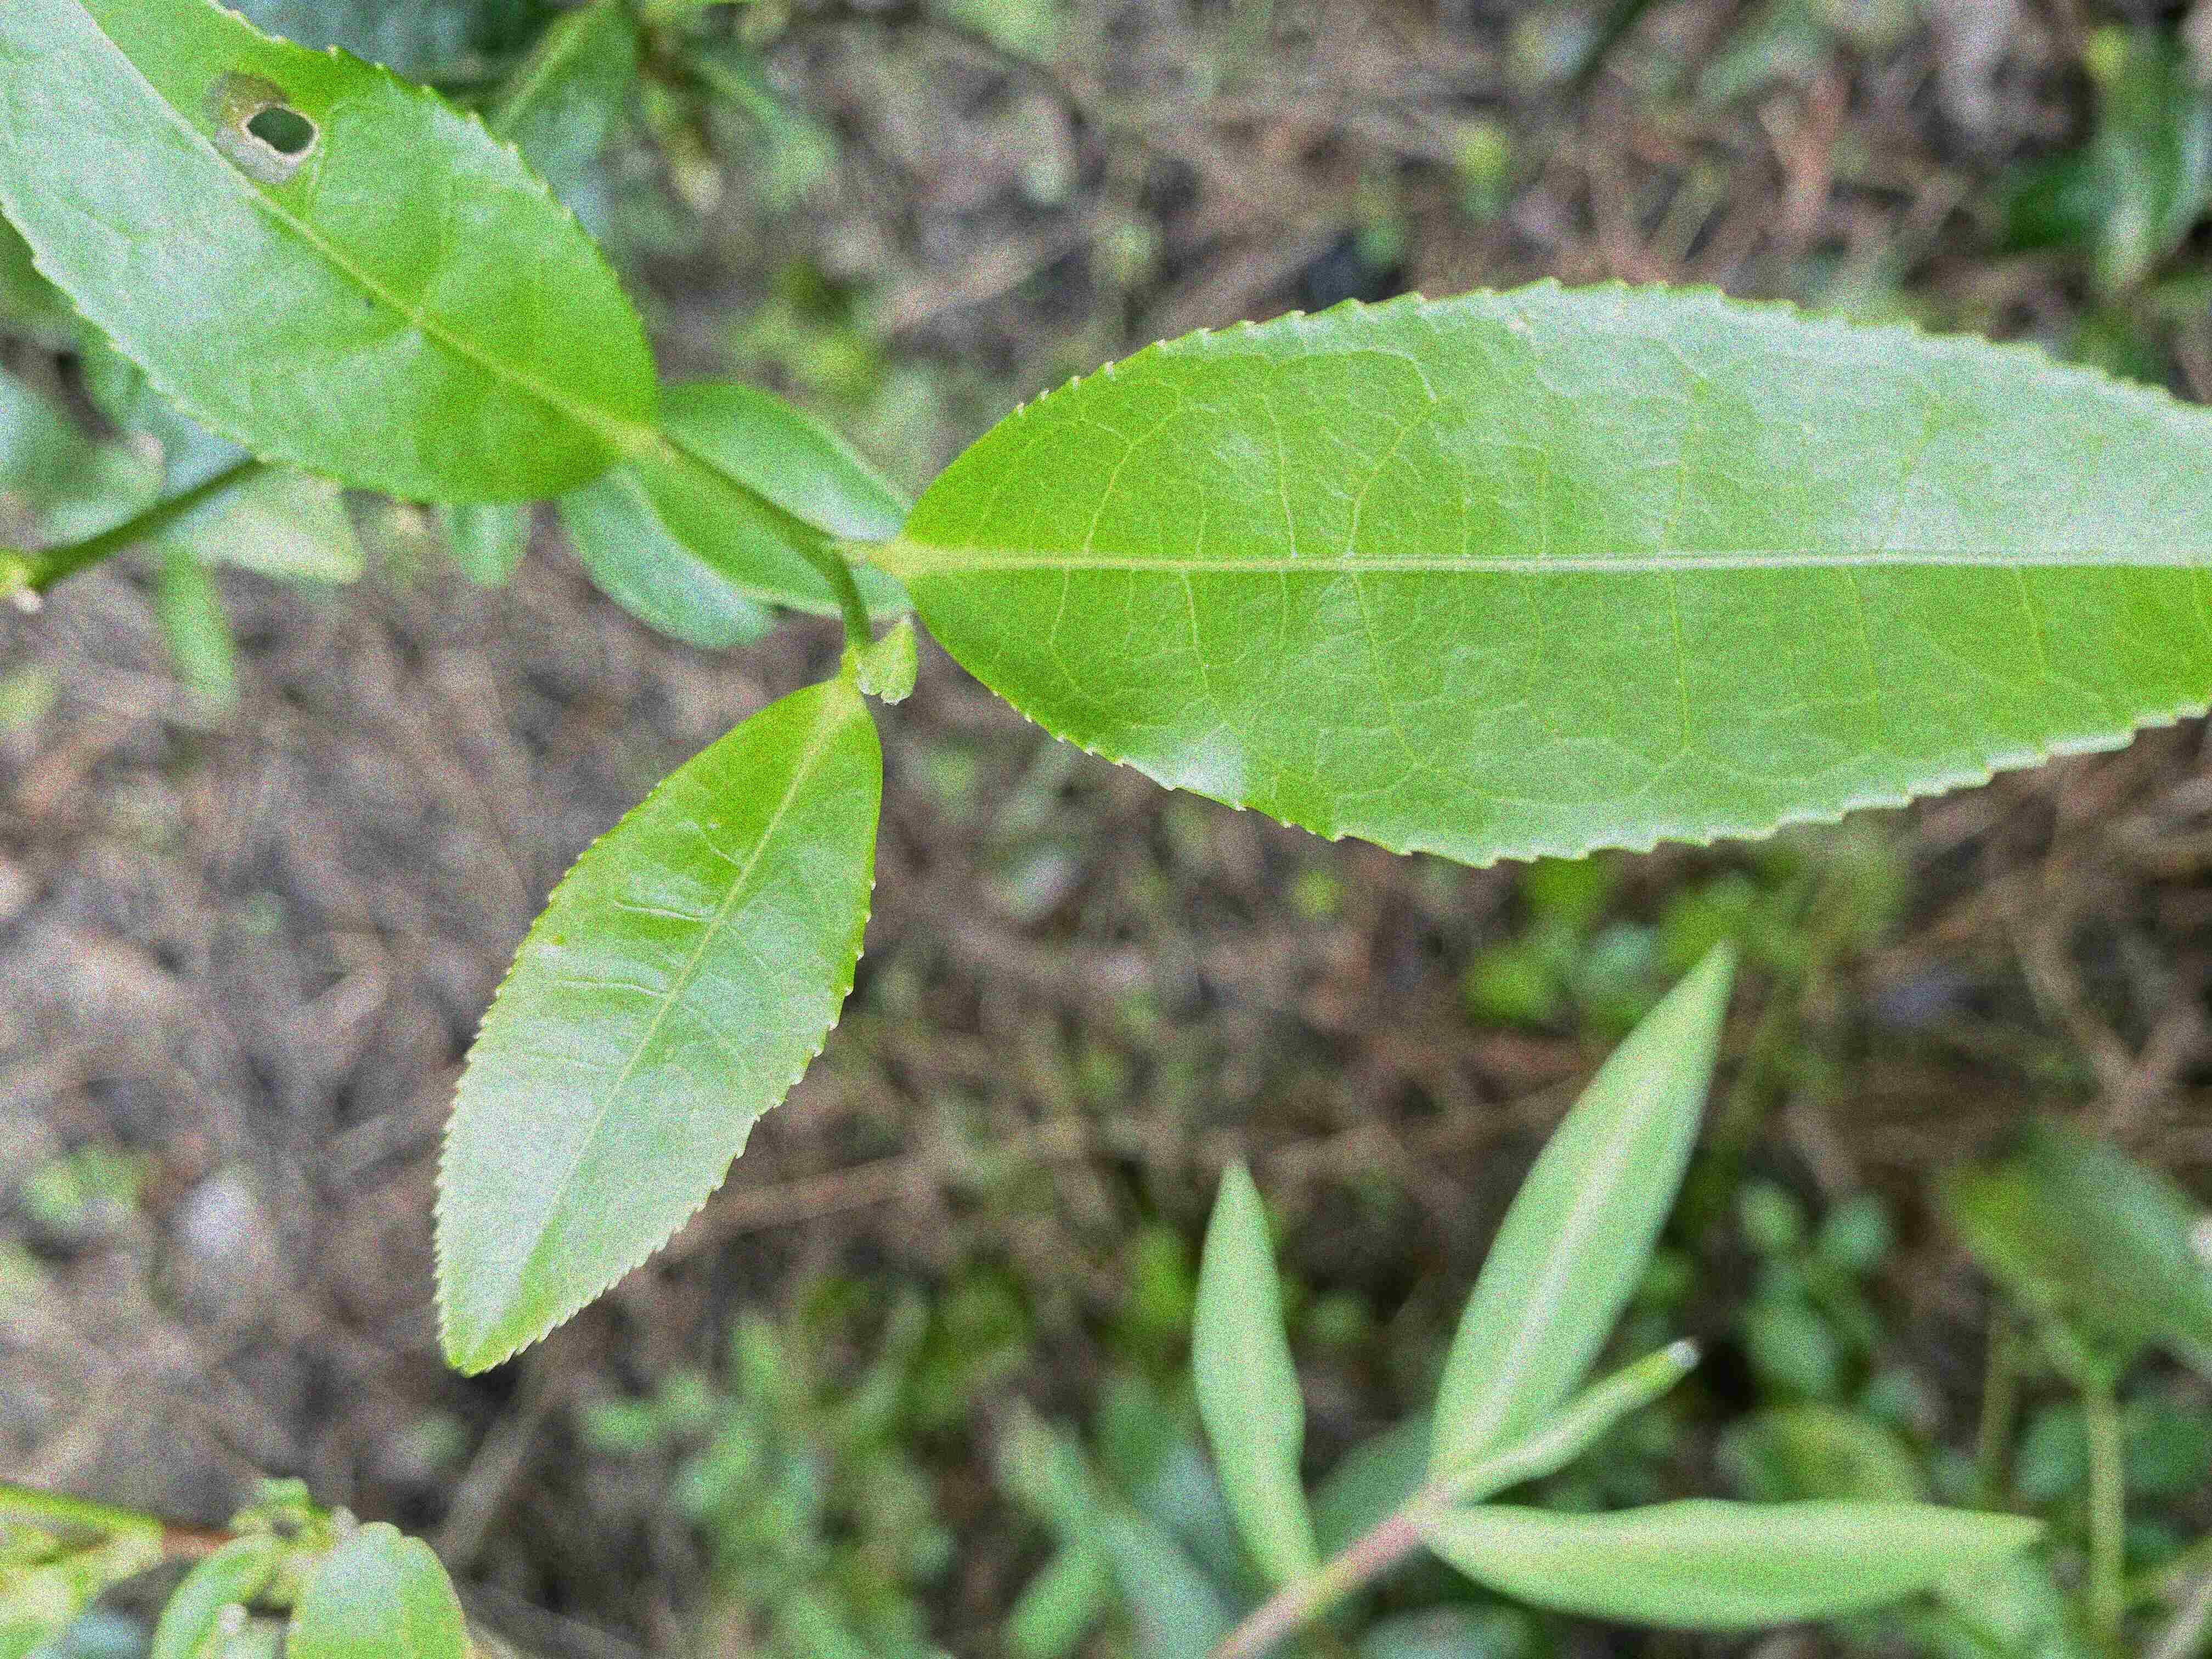chihuo_low: (3, 0, 655, 509)
healthy: (911, 274, 2209, 871), (430, 685, 883, 1378)
